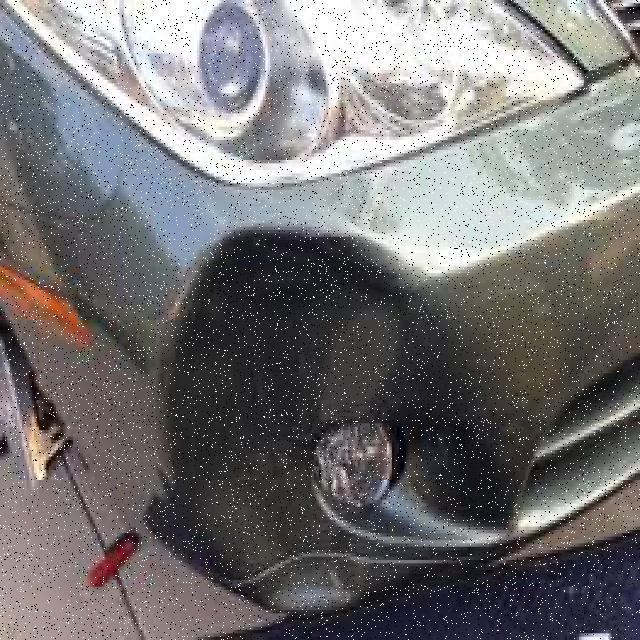front-bumper-dent: (3, 143, 638, 636)
